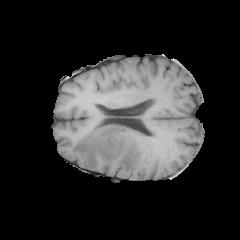glioma: (71, 124, 144, 173)
